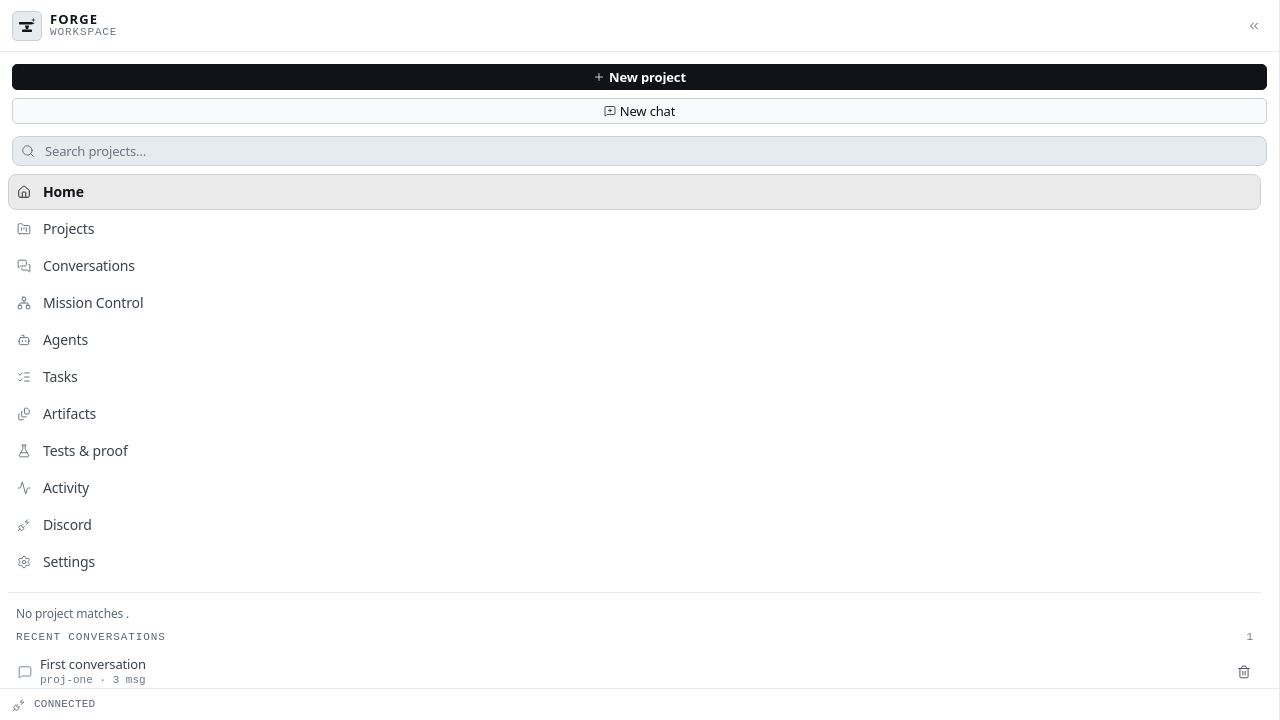
Scenario: Sidebar — "Delete conversation" › opens a real confirm dialog before deleting anything (no browser confirm())
This screenshot has width=1280, height=720.
Click the button named "Delete First conversation": {"x": 1244, "y": 672} [1231,659,1257,685]
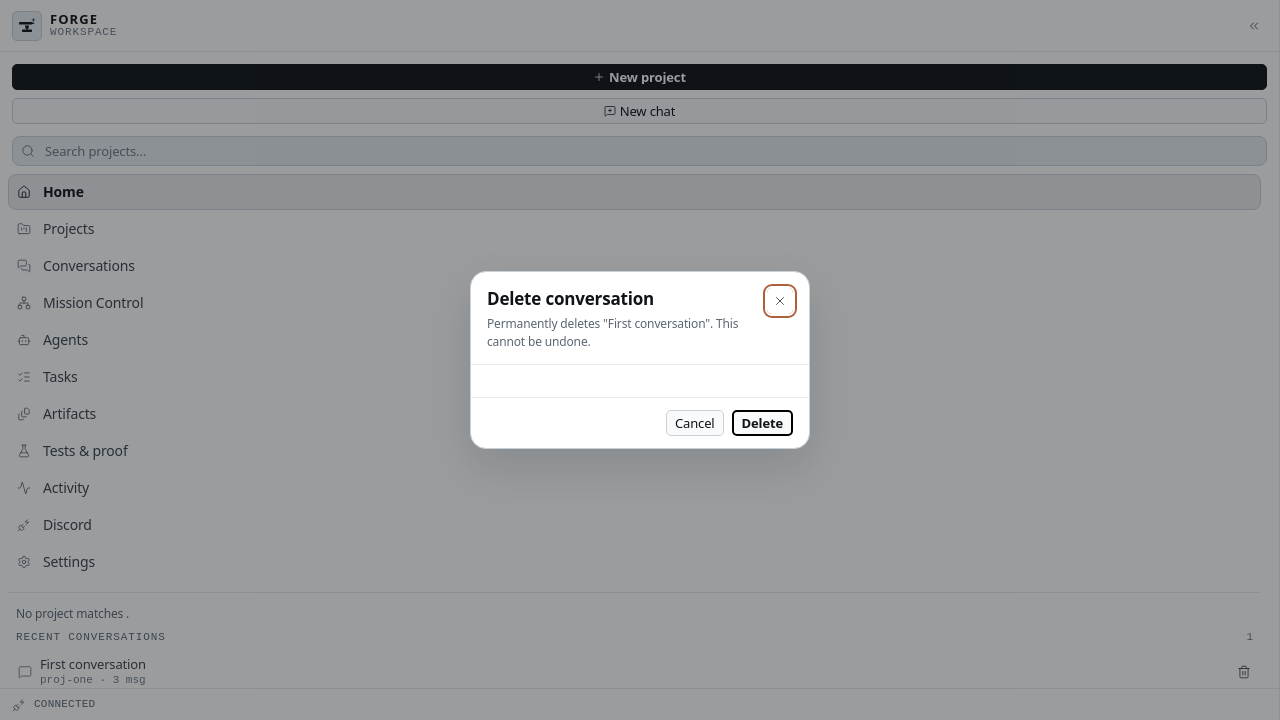
Now the text "First conversation" is shown, box [487,315,738,350]
